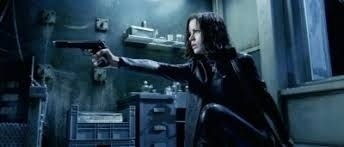pistol: (51, 37, 115, 65)
